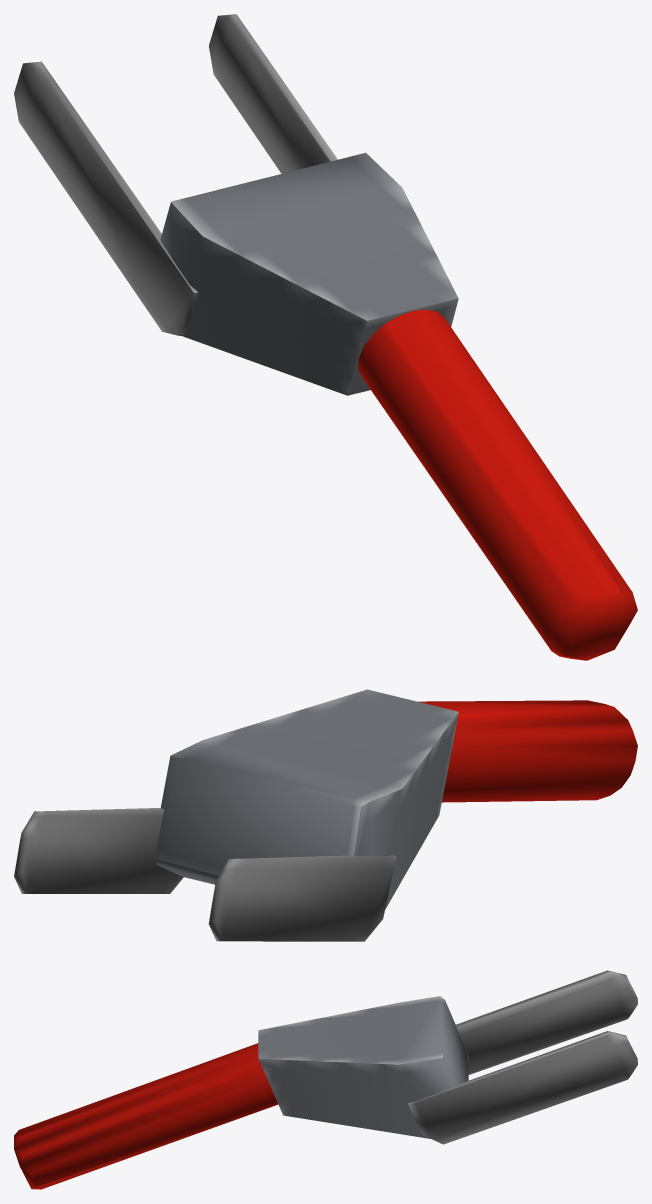
File: handle_left.obj
The picture shows the model from 3 angles, top to bottom: view 1: azimuth 30°, elevation 25°; view 2: azimuth 150°, elevation 25°; view 3: azimuth 270°, elevation 25°; orthographic projection. The views are drawn at different scales.
Visible parts, largest first — view 1: 8.Console_Front_Big_Handle_Left; view 2: 8.Console_Front_Big_Handle_Left; view 3: 8.Console_Front_Big_Handle_Left.
Boxes of the visible parts, left/top/right/bottom form: 8.Console_Front_Big_Handle_Left: left=14, top=14, right=637, bottom=660; 8.Console_Front_Big_Handle_Left: left=14, top=689, right=637, bottom=941; 8.Console_Front_Big_Handle_Left: left=14, top=970, right=637, bottom=1189.
Size of the model in its own units: 0.0553 by 0.076 by 0.2316.
Materials: 1 (1 with a texture image).
